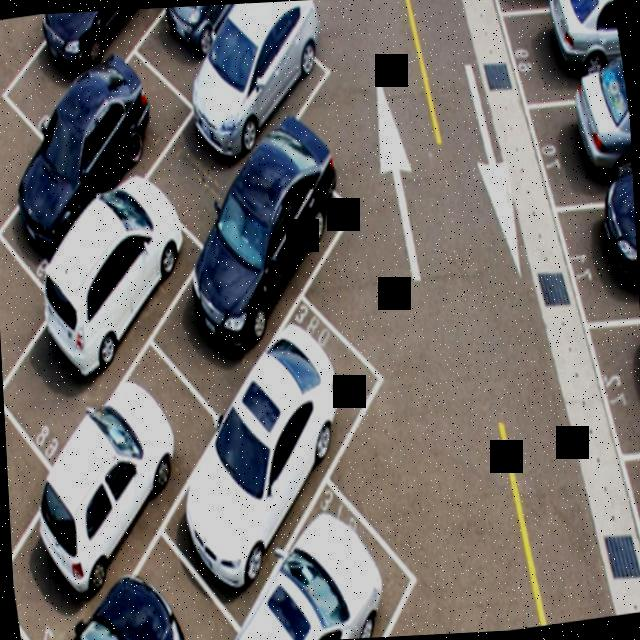car: (174, 292, 368, 565), (148, 13, 360, 246), (15, 381, 208, 576), (0, 210, 183, 402), (2, 58, 180, 234), (248, 473, 411, 640), (4, 8, 162, 108), (513, 0, 627, 106), (147, 2, 259, 94), (494, 0, 609, 17)
